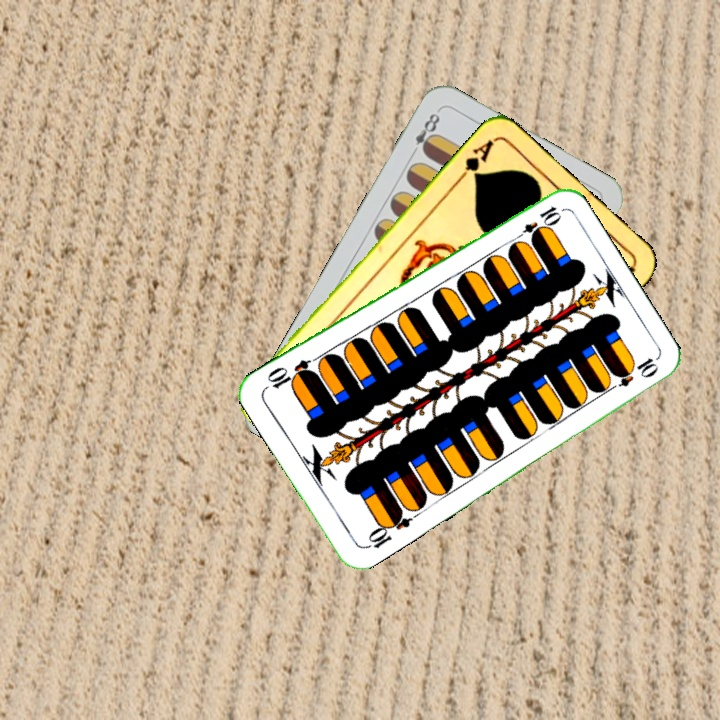E10: (361, 506, 414, 552), (509, 202, 563, 245)
E8: (406, 109, 443, 160)
GA: (453, 136, 497, 185)
